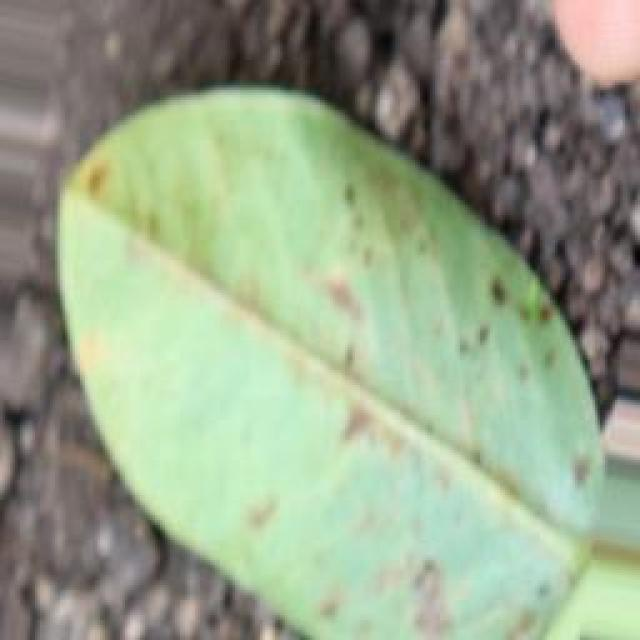Whitefly: (0, 88, 610, 640)
